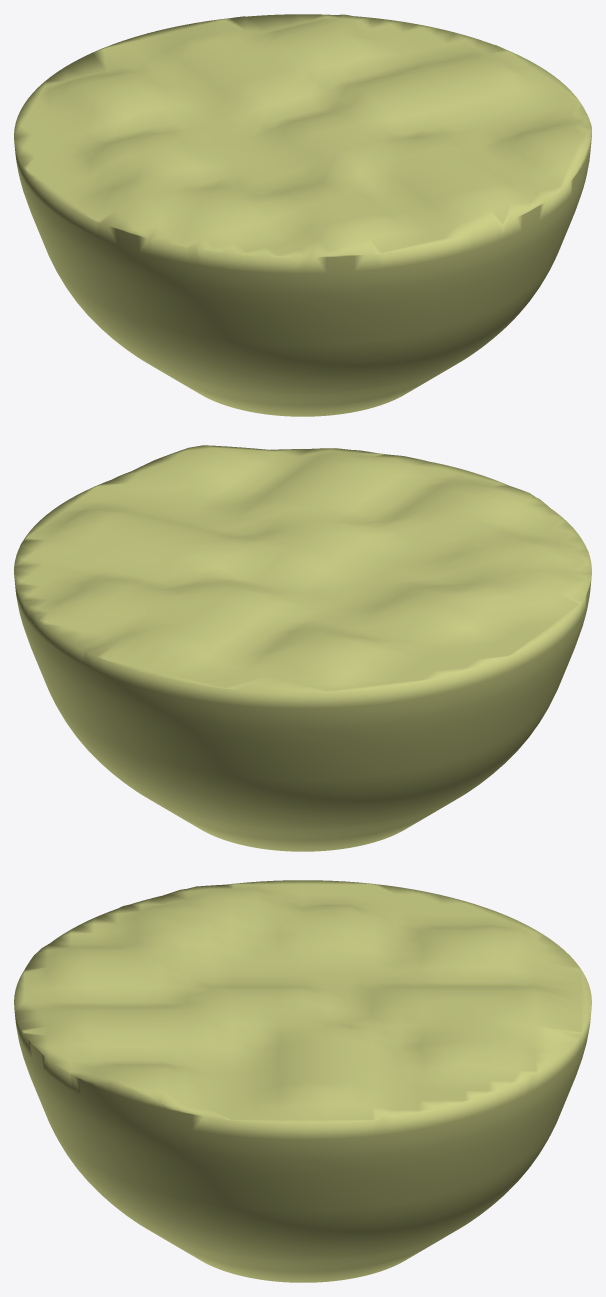
Rendered from Vulling-bloem.obj.
3 views of the same model, one above another, from view 1: azimuth 30°, elevation 25°; view 2: azimuth 150°, elevation 25°; view 3: azimuth 270°, elevation 25° (orthographic).
Visible parts, largest first — view 1: vulling_Material.002; view 2: vulling_Material.002; view 3: vulling_Material.002.
Part boxes in pixels (box(x1,y1,x2,y2)): vulling_Material.002: box(14, 14, 591, 416); vulling_Material.002: box(14, 445, 591, 851); vulling_Material.002: box(14, 880, 591, 1282).
Bounding box in the file's own units: 18.68 × 8.51 × 18.68.
